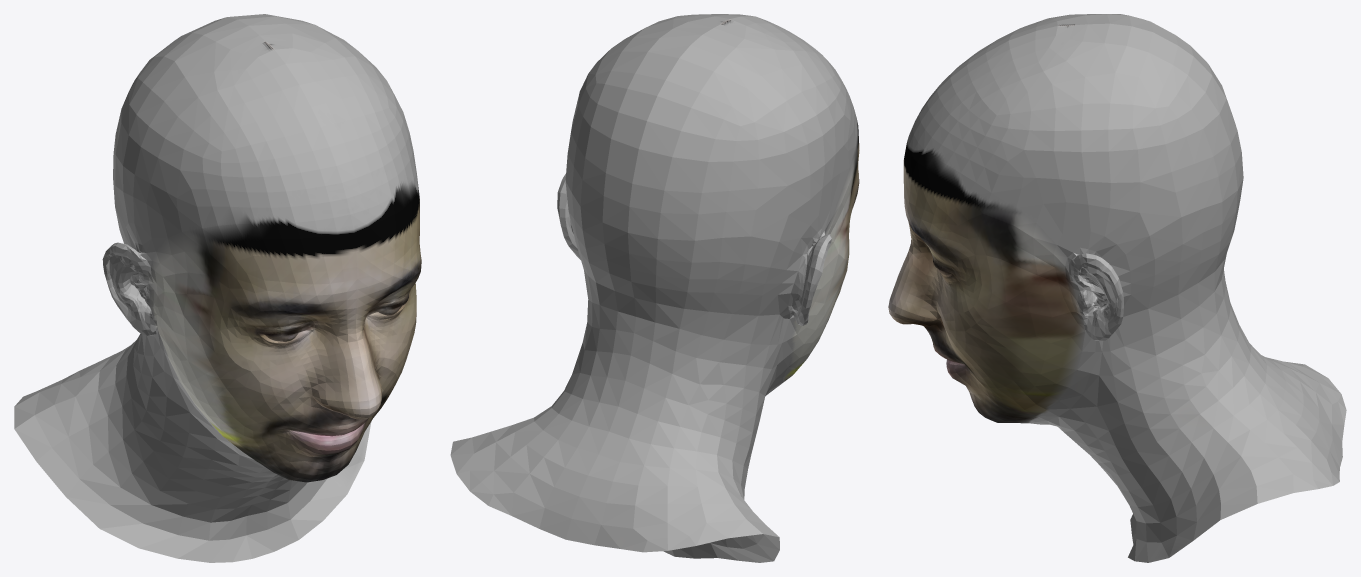
Rendered from ezgif-frame-022.obj.
The picture shows the model from 3 angles, left to right: view 1: azimuth 30°, elevation 25°; view 2: azimuth 150°, elevation 25°; view 3: azimuth 270°, elevation 25°; orthographic projection. The views are drawn at different scales.
Size of the model in its own units: 0.2111 by 0.3296 by 0.2652.
Materials: 1 (1 with a texture image).
